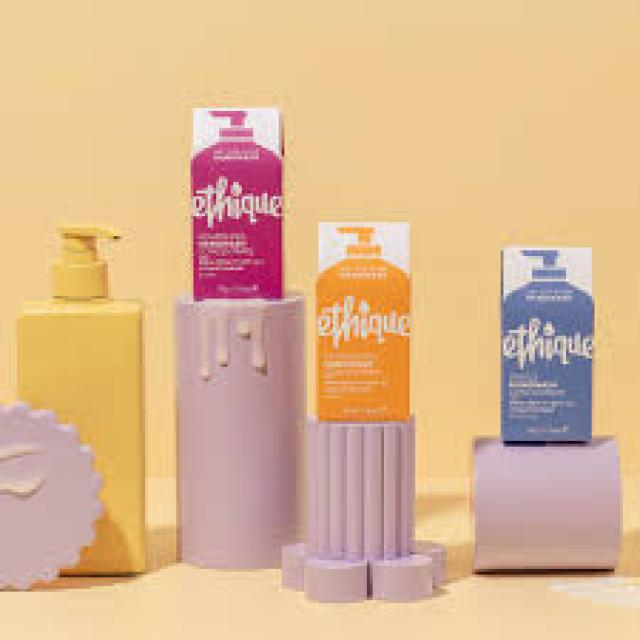liquid soap: (15, 215, 150, 573)
